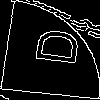D: (24, 25, 80, 67)
